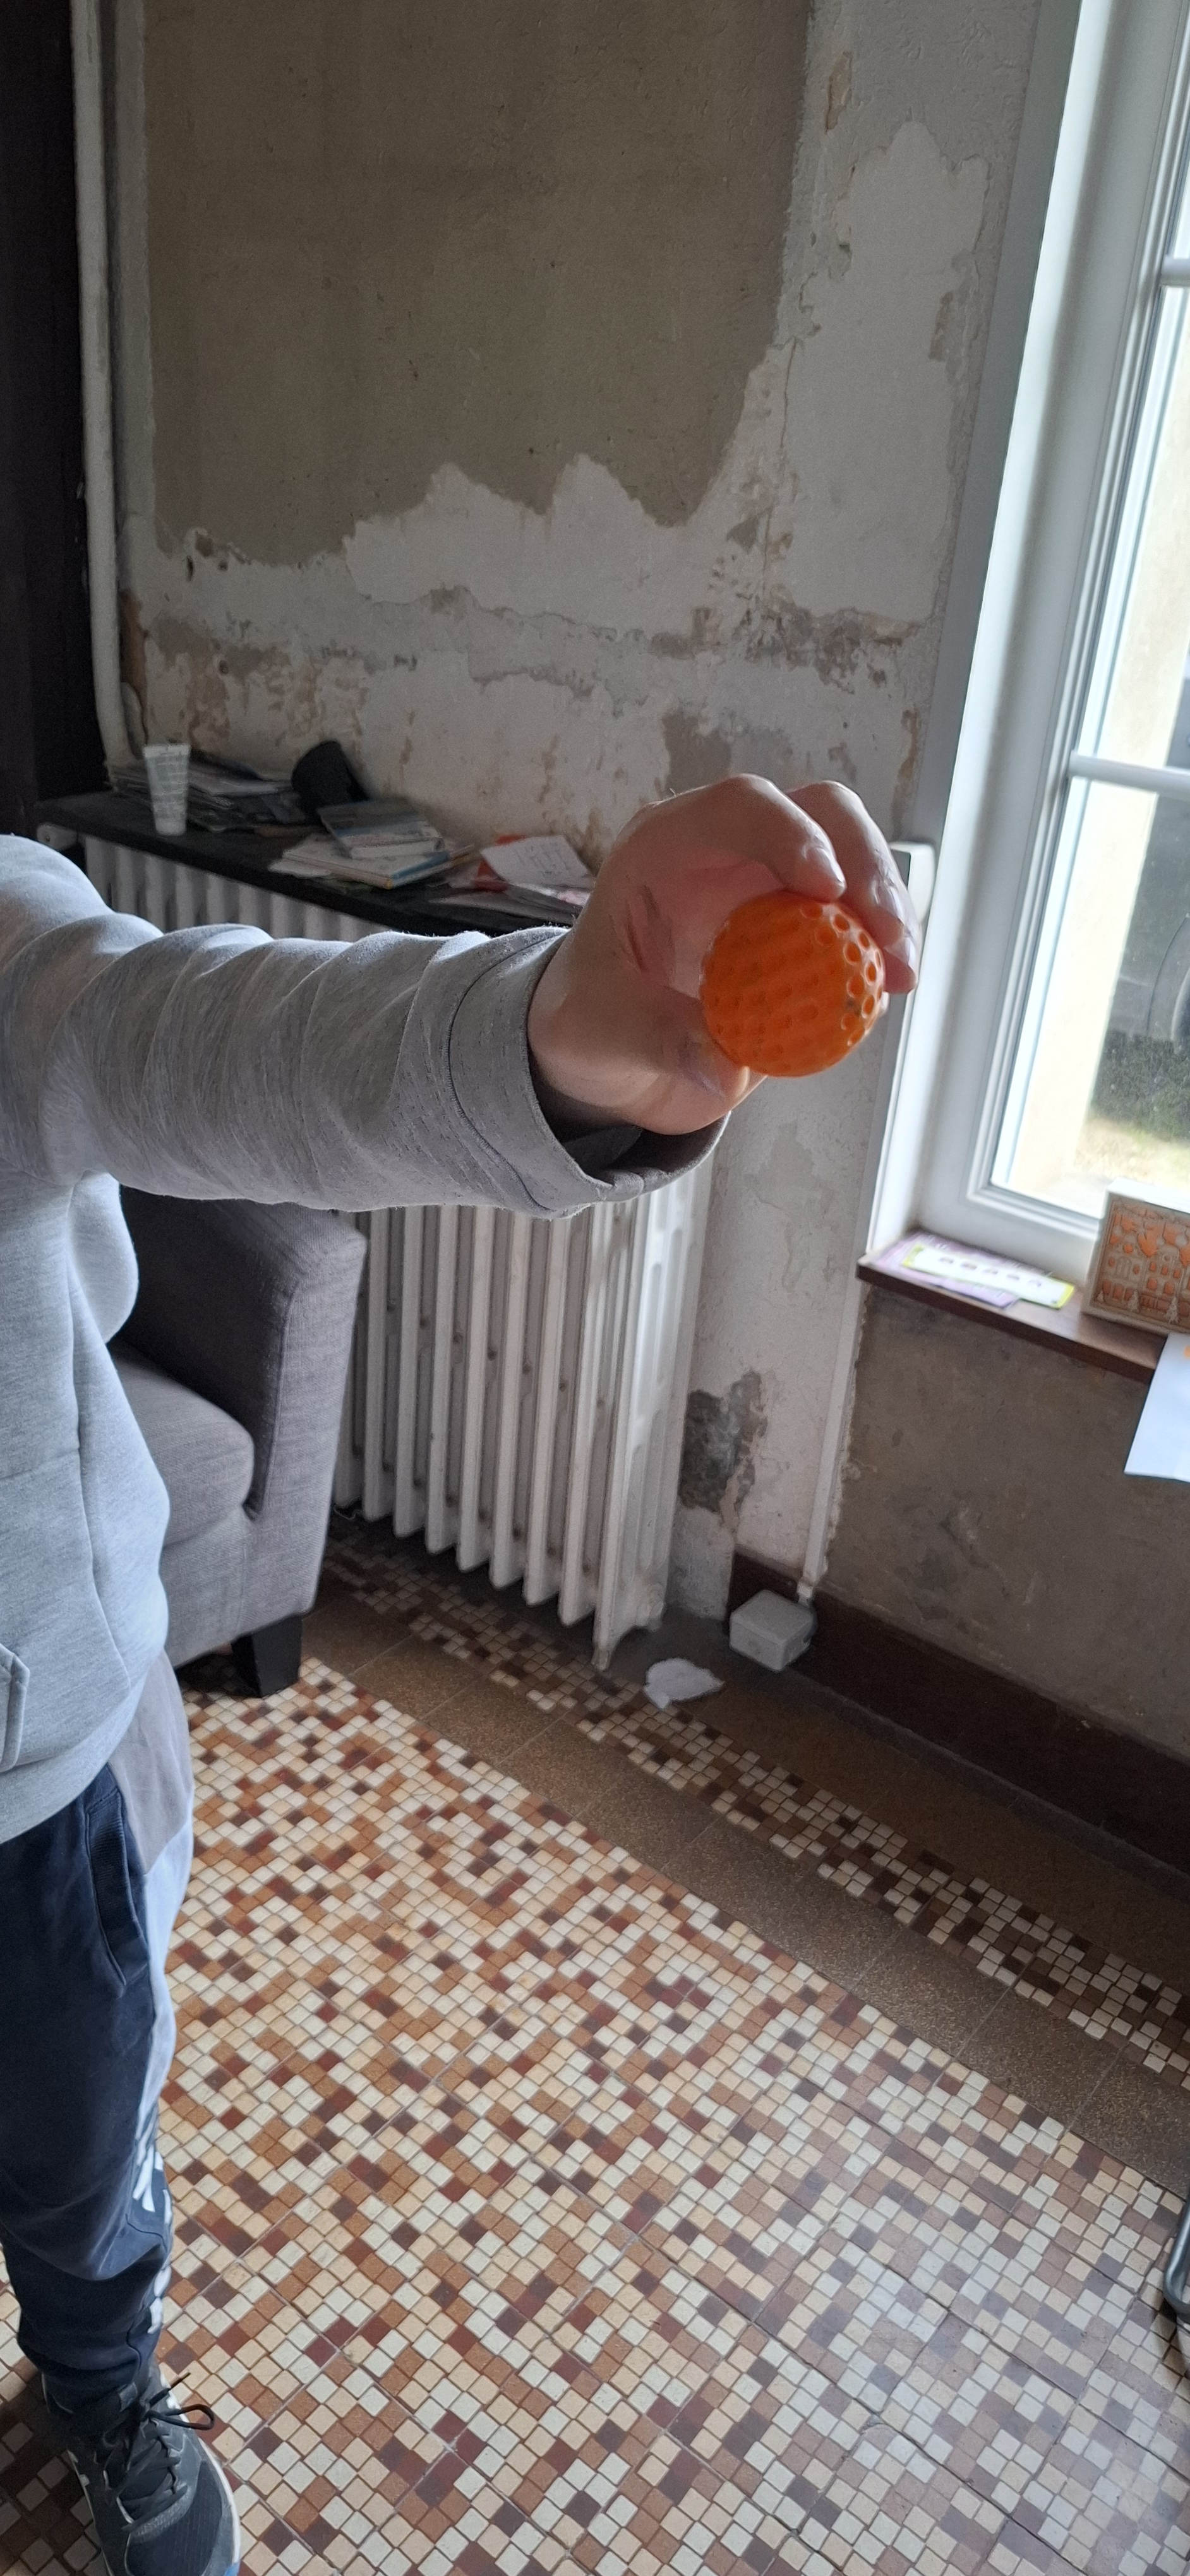ball: (416, 662, 498, 1060)
